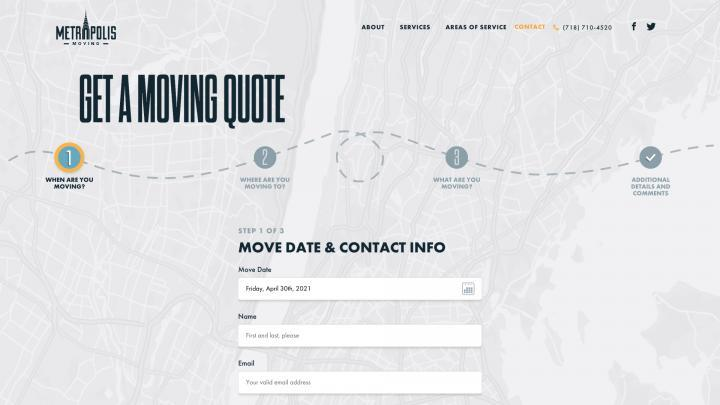input: (239, 326, 483, 349), (241, 373, 482, 396), (240, 280, 483, 301)
label: (237, 266, 274, 276), (238, 313, 260, 323), (238, 359, 259, 369)
